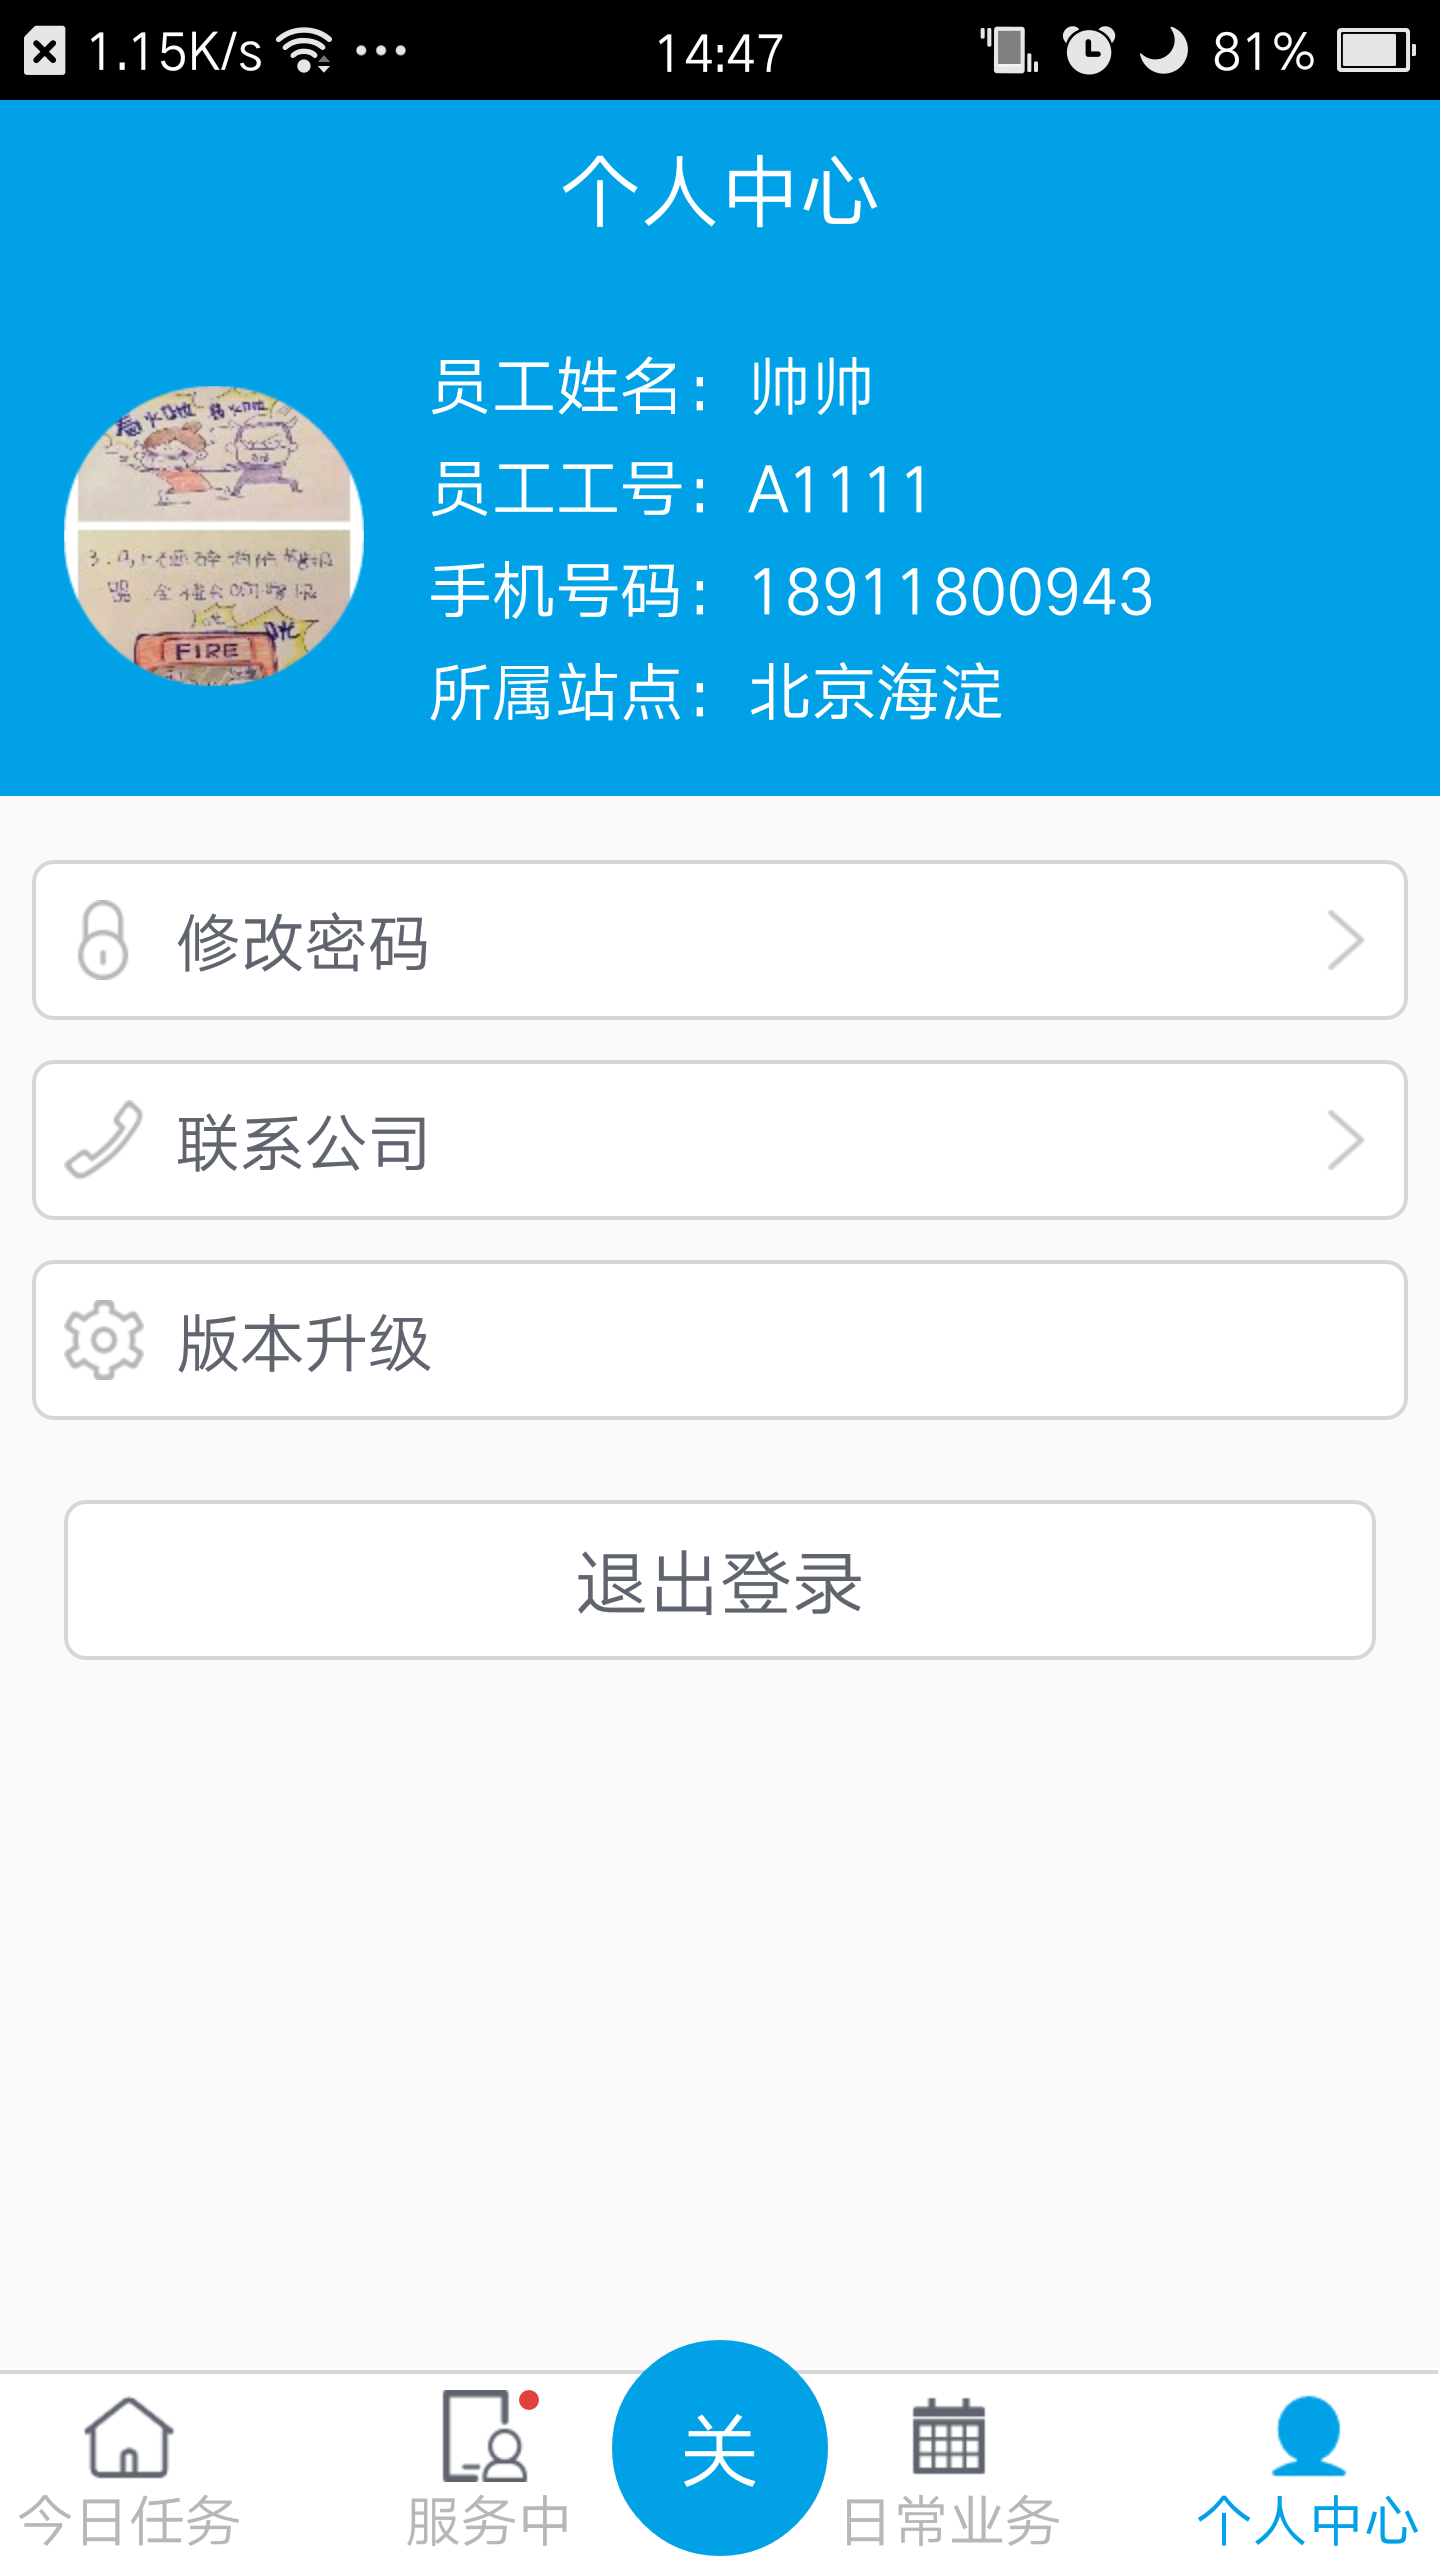imgbutton: (77, 2379, 178, 2490)
